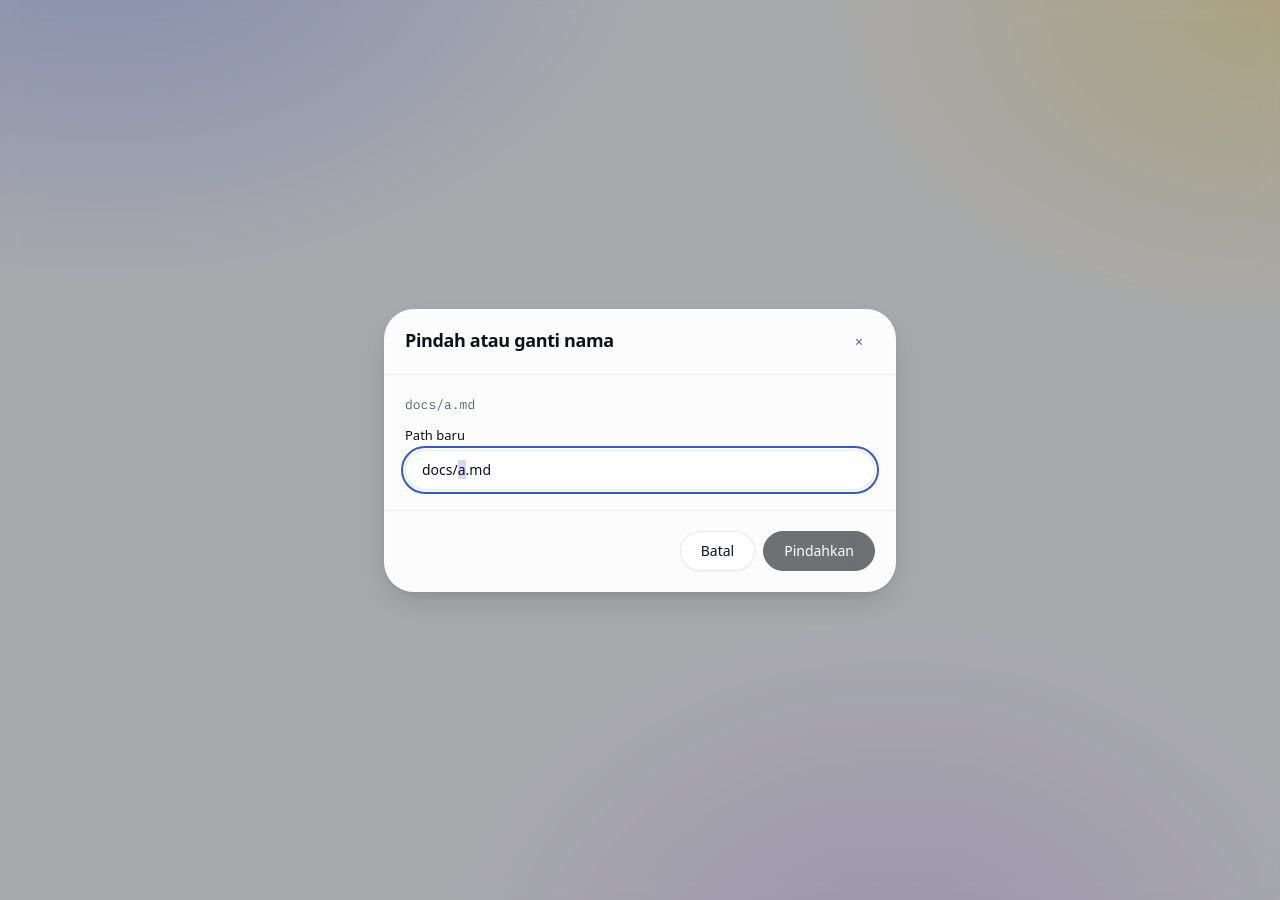
Scenario: MoveFileDialog › 409 path_exists shows an inline error
Step 1. Clear the field labelled "Path baru" → (640, 470), box [405,450,875,490]
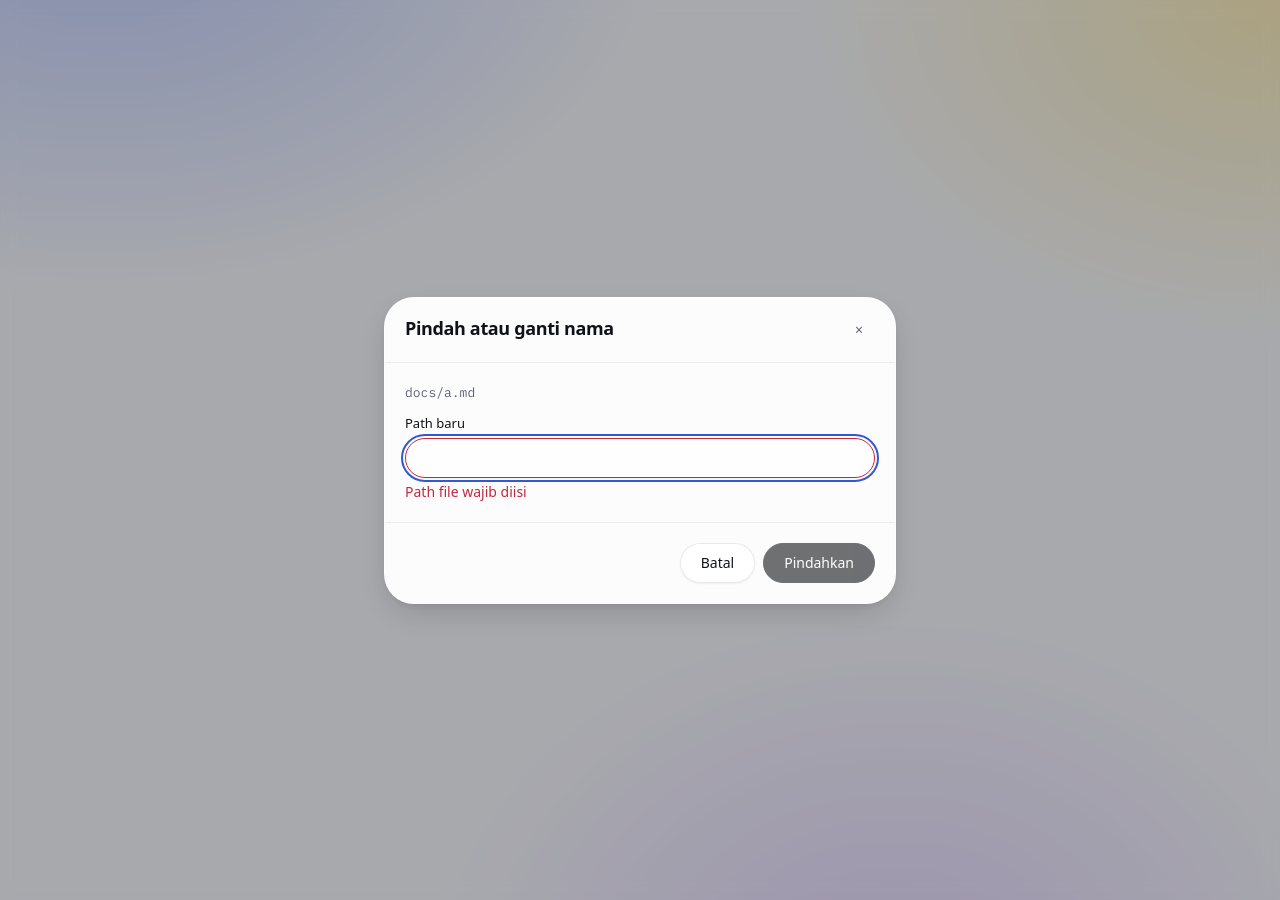
Step 2. Type "docs/b.md" into the field labelled "Path baru" → (640, 458), box [405,438,875,478]
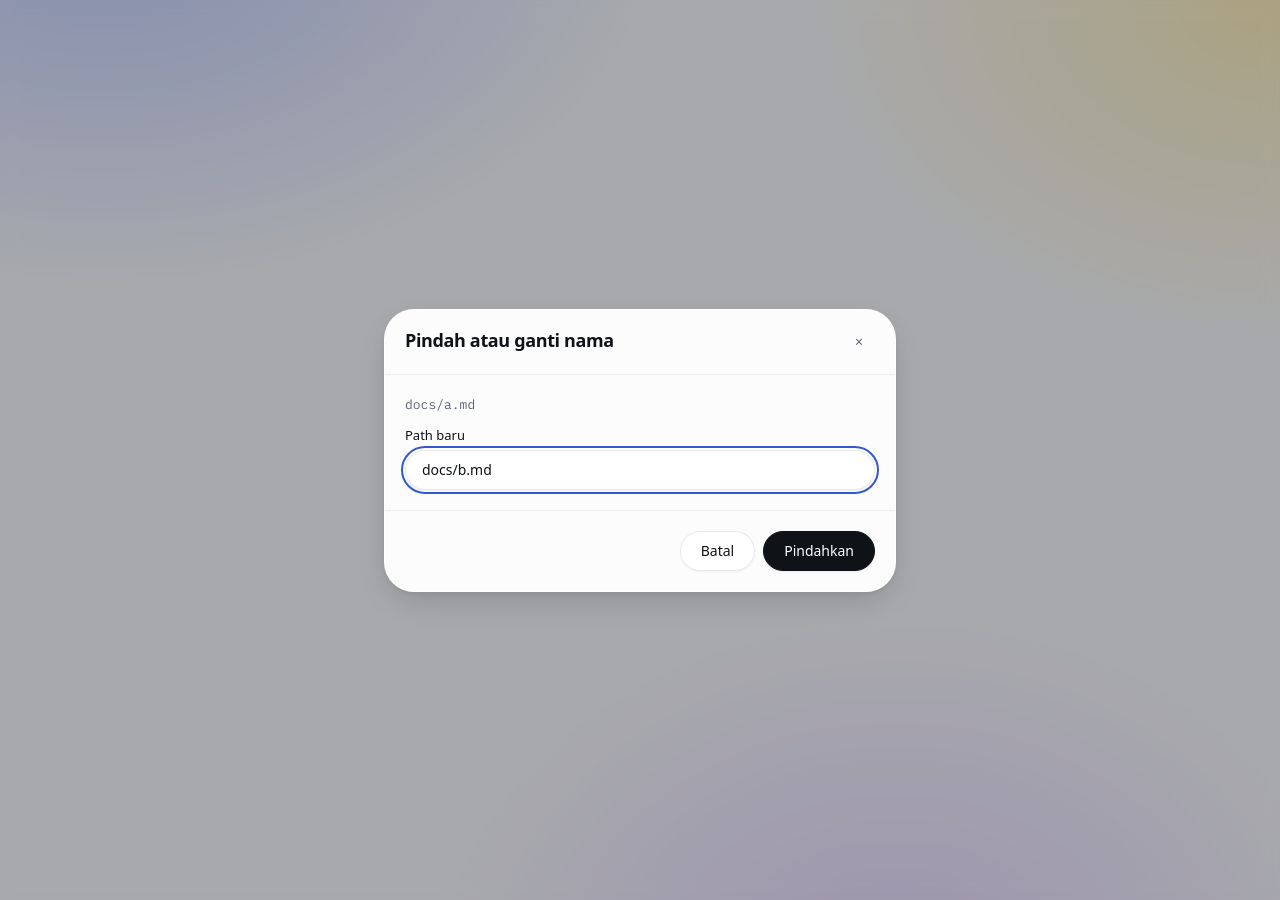
Step 3. Click the button "Pindahkan" → (819, 550), box [763,530,875,570]
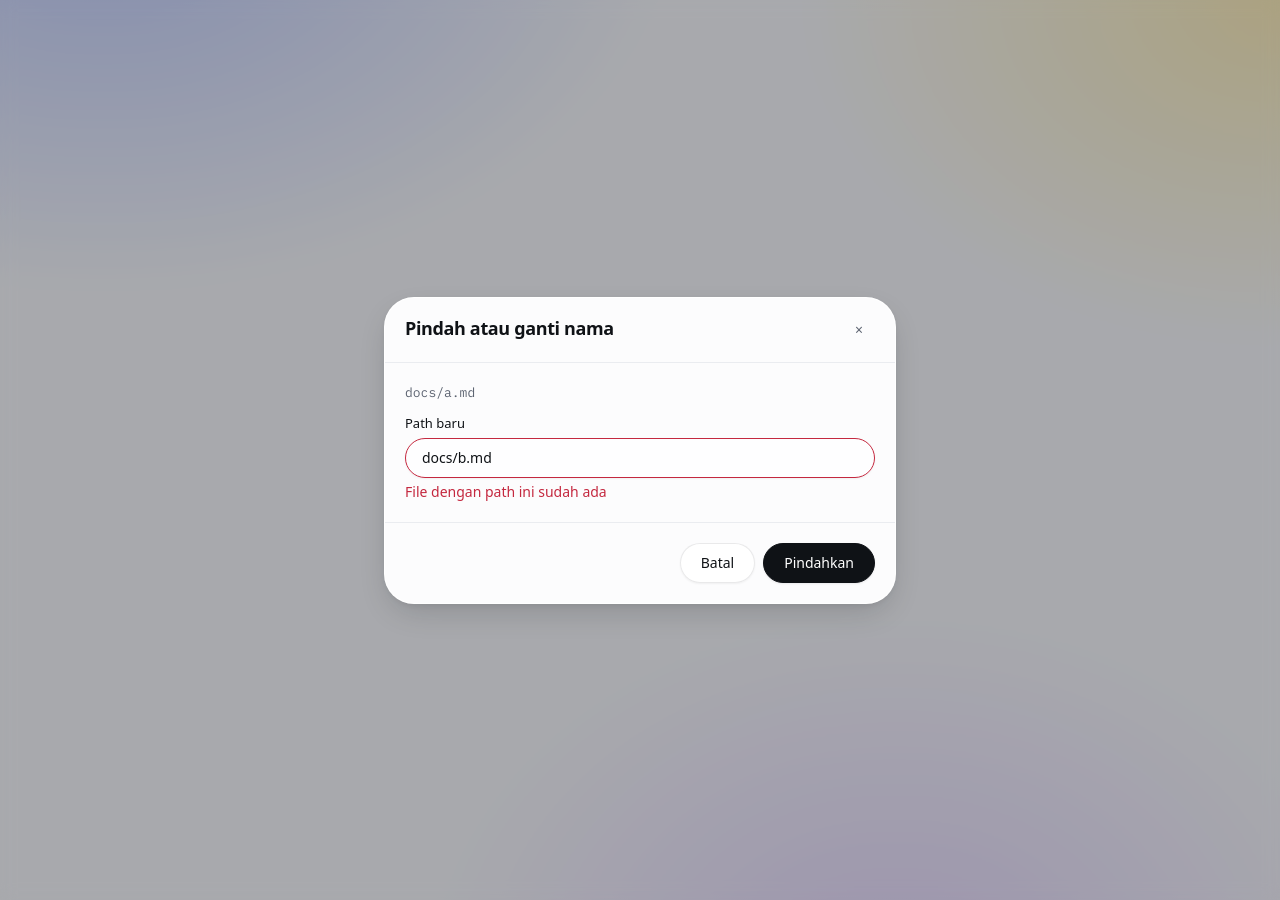
Expected: the text "File dengan path ini sudah ada" is shown, [405,482,607,500]
